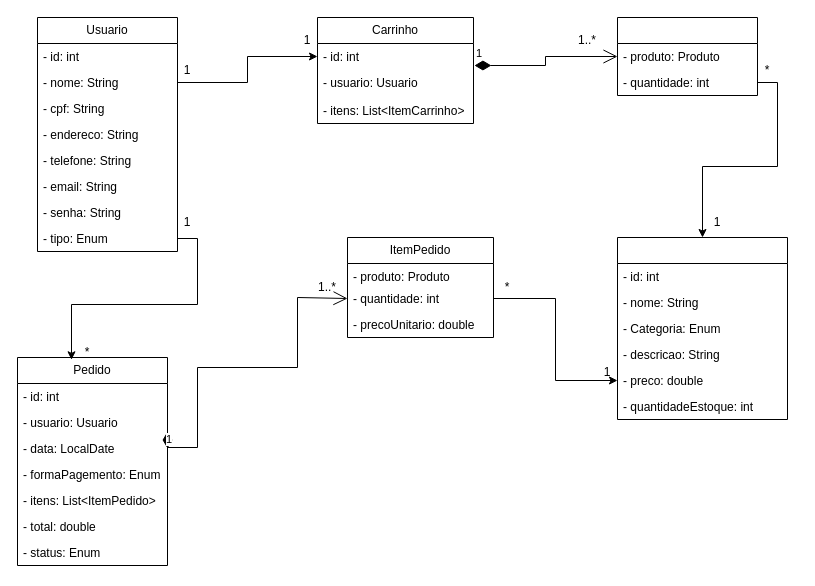
This 815x586 diagram has some shape labels left out. The box of each missing label's shape, as (x1, y1, x2, y2) in pixels:
ItemCarrinho: (616, 16, 758, 96)
Produto: (616, 236, 788, 420)
